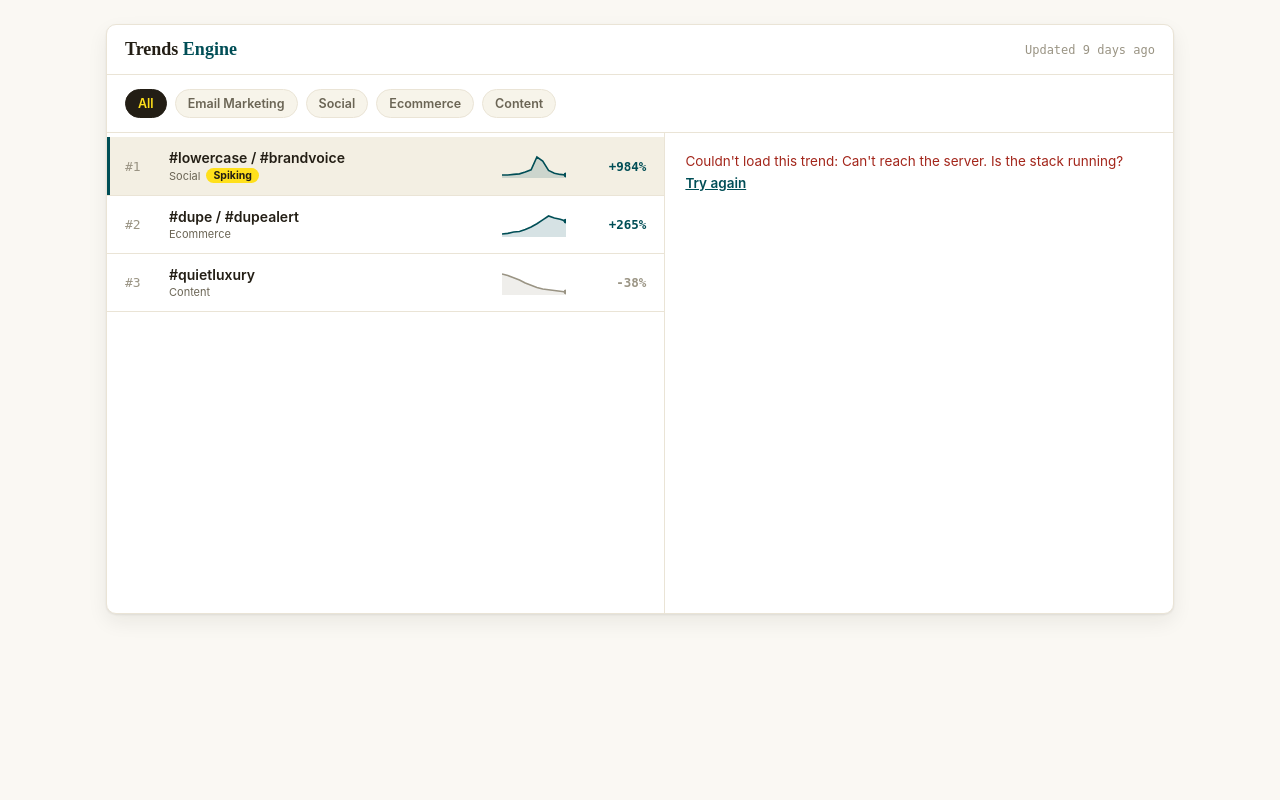
detail errors other than 404 offer a retry
The width and height of the screenshot is (1280, 800).
Expected: the text "Couldn't load this trend: Can't reach the server" is shown, x1=685 y1=153 x2=1153 y2=169
Click the button "Try again" at coordinates (716, 183), box x1=685 y1=175 x2=746 y2=191
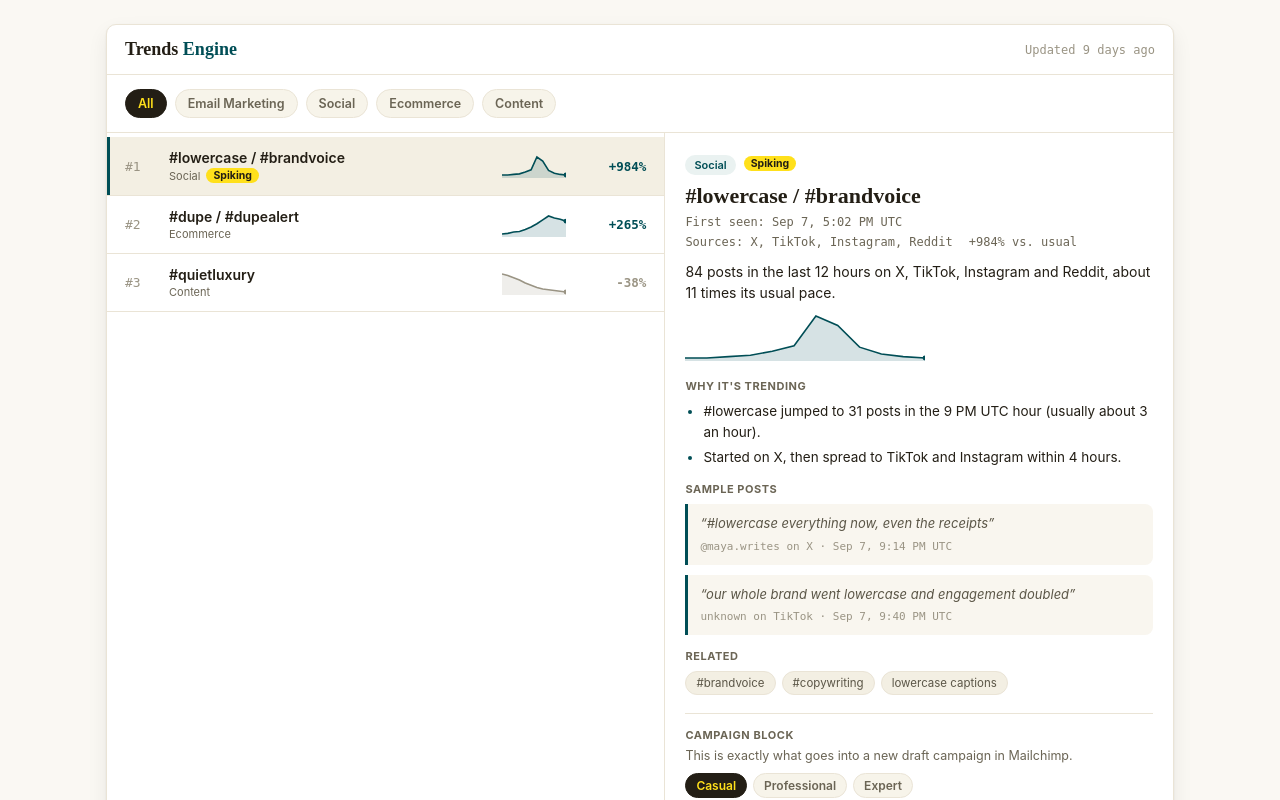
Now the heading "#lowercase / #brandvoice" is shown, box x1=685 y1=183 x2=921 y2=208
